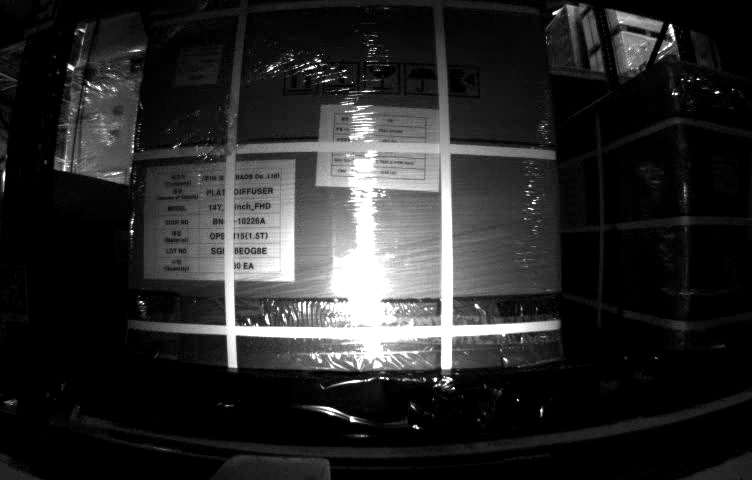True Barcode: (176, 47, 220, 86), (709, 154, 746, 196)
